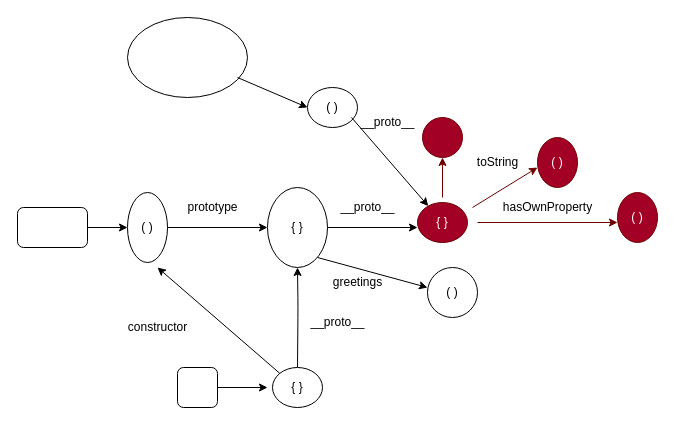
This 675x425 diagram has some shape labels left out. Here are the shapes that lost their labels. From the top down, the box of each, then its label:
(126, 16, 248, 98): Object
(422, 116, 462, 158): null
(16, 206, 88, 248): Person
(176, 366, 218, 408): p3
